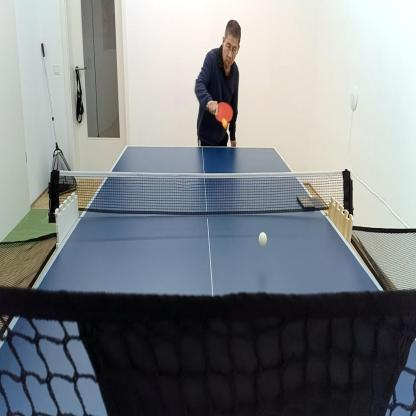Ball: (259, 231, 267, 246), (222, 118, 228, 128)
